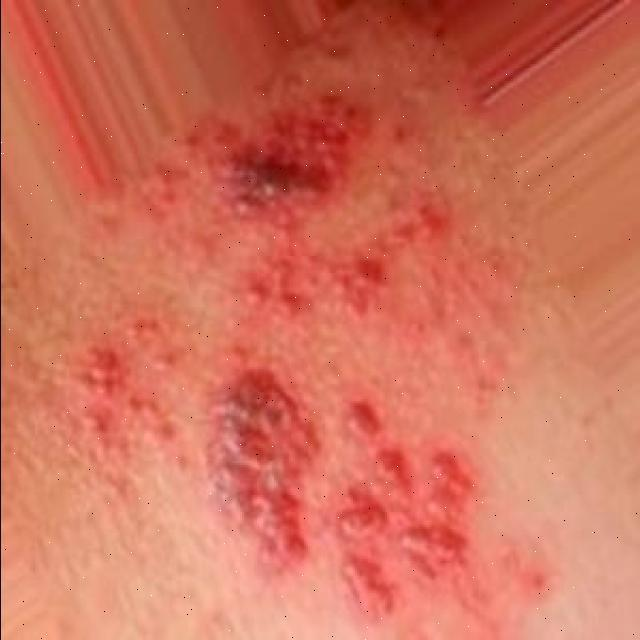Shingles: (208, 361, 546, 624), (178, 75, 449, 312), (67, 320, 174, 470)
